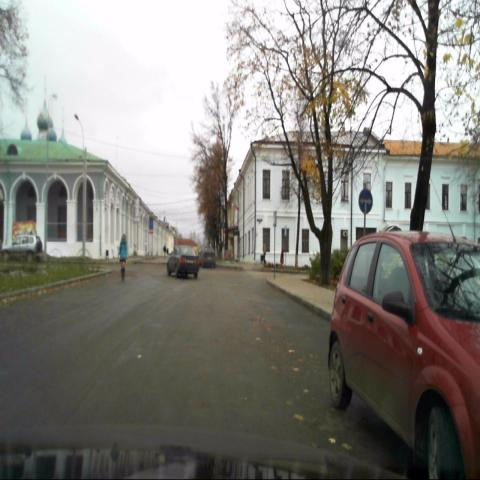4_1_6: (358, 188, 374, 216)
